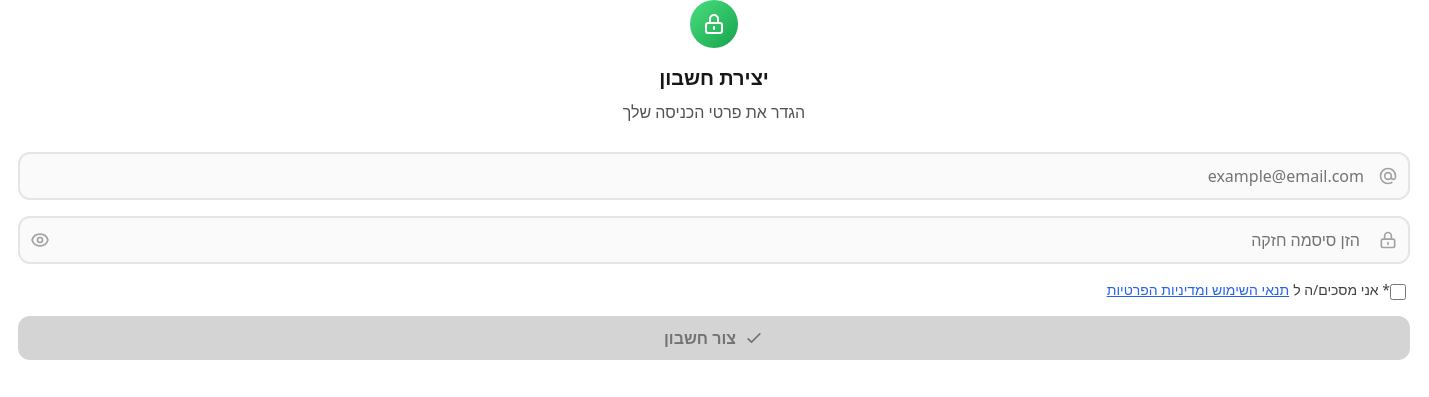
Test case: AccountDetailsStep › Email Field › should show email validation error
The width and height of the screenshot is (1429, 397).
Step 1. Type "invalid-email" into the field with test id "email-input" → [714, 176], box [18,152,1410,200]
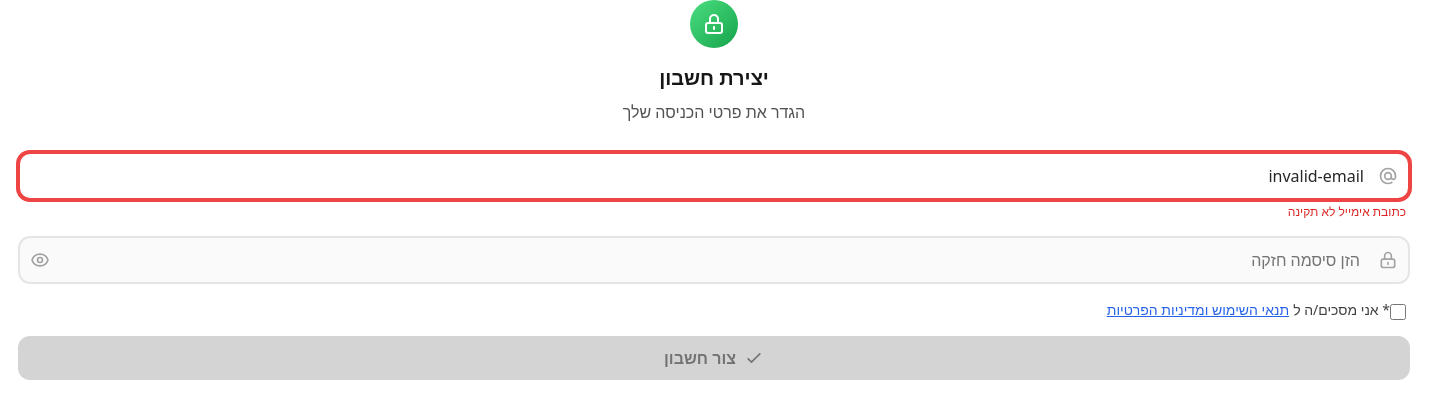
Expected: the text with test id "email-error" reads "כתובת אימייל לא תקינה", [1288,203,1406,220]
